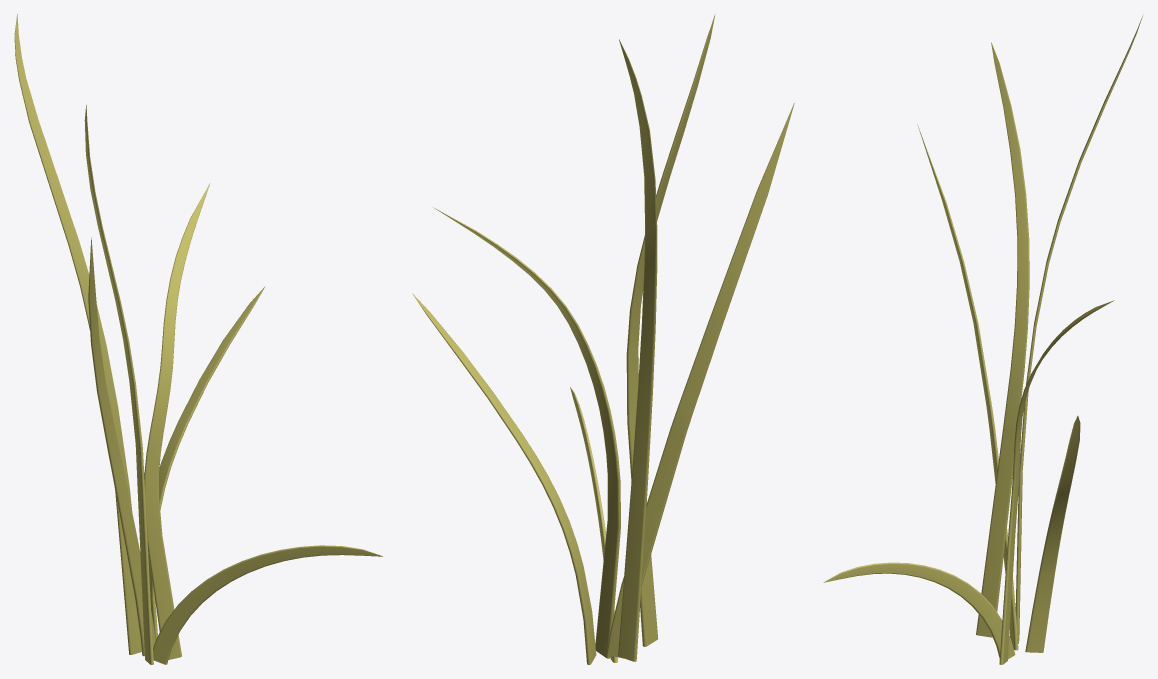
The model's file is tallGrass.fbx.
3 views of the same model, side by side, from view 1: azimuth 30°, elevation 25°; view 2: azimuth 150°, elevation 25°; view 3: azimuth 270°, elevation 25° (orthographic). The views are drawn at different scales.
Parts seen in each view (by area): view 1: tallGrass19, tallGrass24, tallGrass22, tallGrass20, tallGrass21, tallGrass23; view 2: tallGrass24, tallGrass22, tallGrass19, tallGrass20, tallGrass23, tallGrass21; view 3: tallGrass20, tallGrass23, tallGrass21, tallGrass19, tallGrass24, tallGrass22.
Part boxes in pixels (x1,y1,x2,y2): tallGrass19: (144,183,210,659); tallGrass24: (14,14,141,654); tallGrass22: (88,237,155,656); tallGrass20: (84,105,153,664); tallGrass21: (153,545,382,664); tallGrass23: (148,286,265,640); tallGrass24: (618,39,657,661); tallGrass22: (606,103,794,658); tallGrass19: (433,207,620,658); tallGrass20: (626,14,715,646); tallGrass23: (412,293,596,664); tallGrass21: (570,387,617,662); tallGrass20: (976,42,1029,637); tallGrass23: (1025,416,1080,652); tallGrass21: (823,562,1015,659); tallGrass19: (999,300,1114,664); tallGrass24: (1015,14,1143,643); tallGrass22: (917,124,1018,650).
Bounding box in the file's own units: 3.37 × 7.78 × 3.69.
